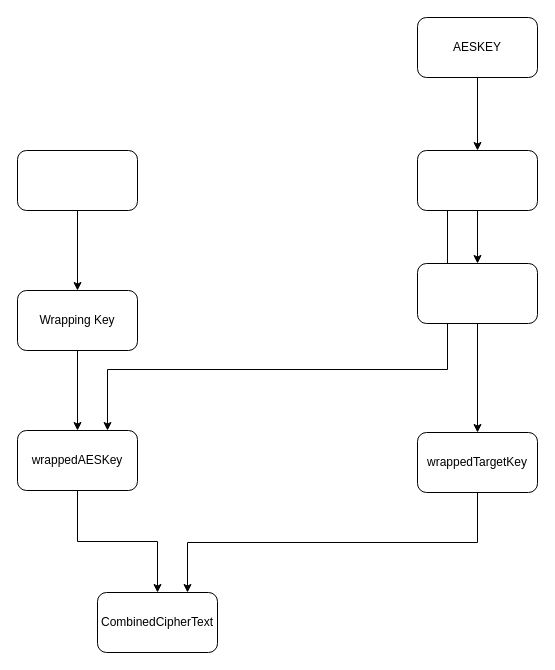
The diagram is 555 pixels wide and 670 high, and some of its shapes have lost their labels. Here are the shapes that lost their labels. From the top down, the box of each, then its label:
(16, 150, 138, 210): WrappingKeyString
(416, 150, 538, 210): ephemeralAESKey
(416, 262, 538, 324): wrapKWP
